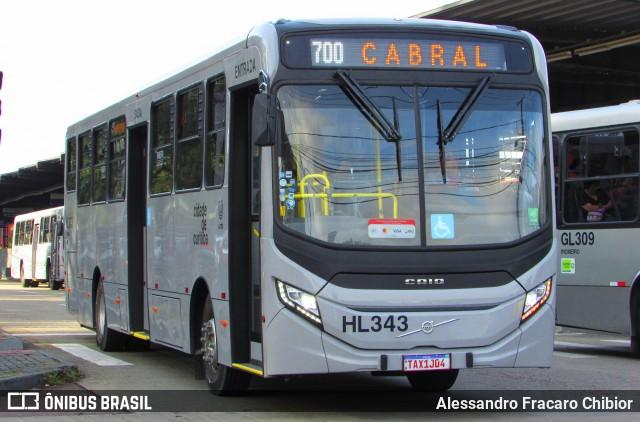CABRAL: (355, 37, 491, 70)
